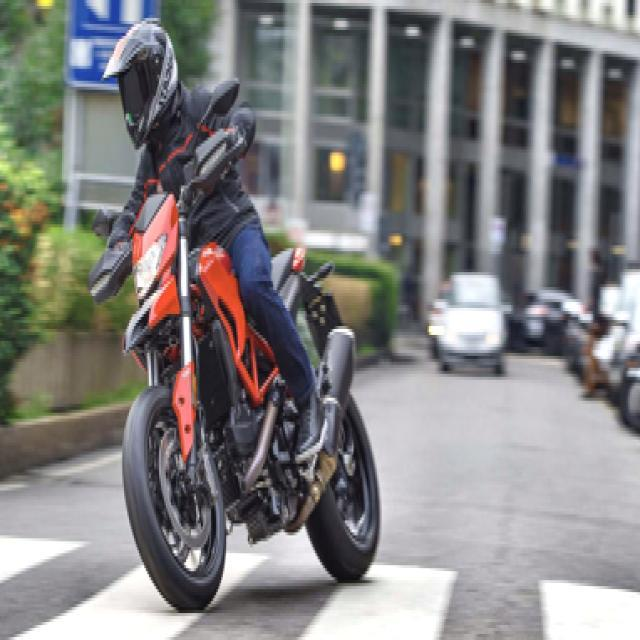Helmet: (96, 6, 184, 153)
